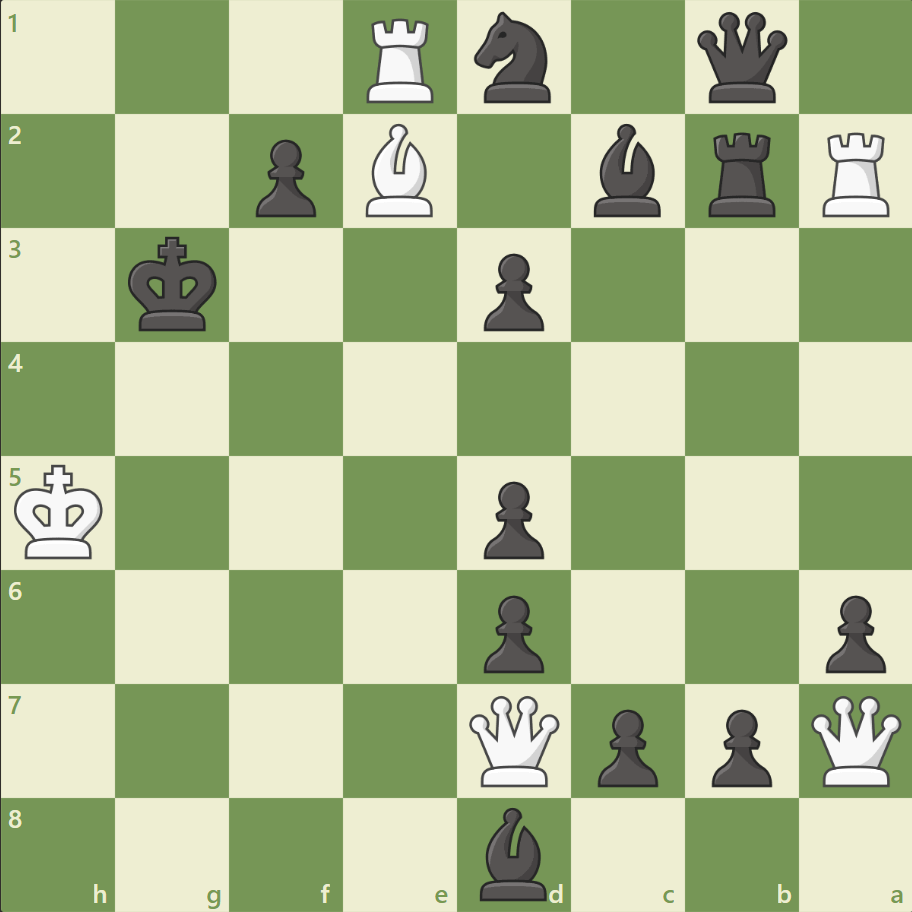B: (358, 120, 442, 222)
K: (11, 458, 111, 566)
Q: (805, 690, 904, 789), (464, 690, 563, 789)
R: (814, 125, 897, 222), (360, 12, 442, 109)
b: (471, 801, 555, 904), (585, 120, 669, 222)
k: (124, 231, 224, 339)
n: (465, 7, 562, 110)
p: (701, 700, 776, 791), (474, 586, 549, 677), (474, 473, 549, 564), (474, 246, 549, 337), (247, 132, 322, 223), (588, 700, 662, 791), (815, 586, 889, 677)
q: (691, 9, 790, 108)
r: (700, 125, 783, 222)
